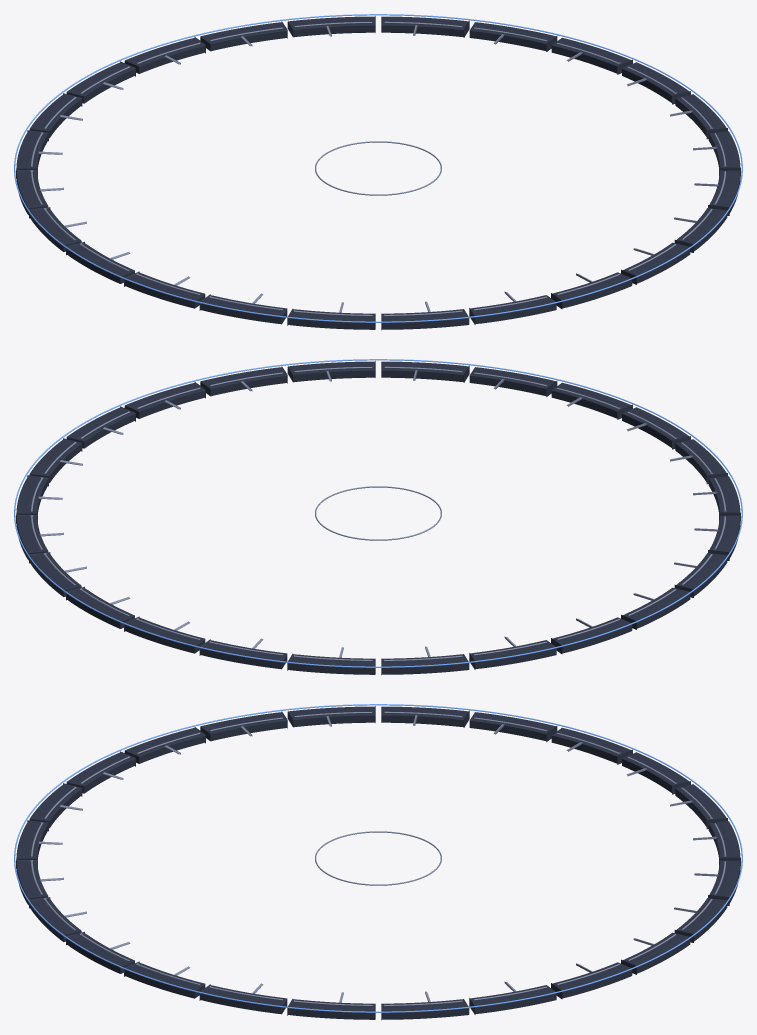
Rendered from iris-stage.glb.
The picture shows the model from 3 angles, top to bottom: view 1: azimuth 30°, elevation 25°; view 2: azimuth 150°, elevation 25°; view 3: azimuth 270°, elevation 25°; orthographic projection.
Visible parts, largest first — view 1: Foundation_Outer, Foundation_Segment_02, Foundation_Segment_01, Foundation_Segment_03, Foundation_Segment_00, Foundation_Segment_14, Foundation_Segment_13, Foundation_Segment_15, Foundation_Segment_12, Foundation_Segment_04, Foundation_Segment_16, Foundation_Segment_11 (+14 smaller); view 2: Foundation_Outer, Foundation_Segment_10, Foundation_Segment_09, Foundation_Segment_11, Foundation_Segment_08, Foundation_Segment_22, Foundation_Segment_21, Foundation_Segment_23, Foundation_Segment_20, Foundation_Segment_12, Foundation_Segment_00, Foundation_Segment_19 (+14 smaller); view 3: Foundation_Outer, Foundation_Segment_18, Foundation_Segment_17, Foundation_Segment_19, Foundation_Segment_16, Foundation_Segment_06, Foundation_Segment_05, Foundation_Segment_07, Foundation_Segment_04, Foundation_Segment_20, Foundation_Segment_08, Foundation_Segment_03 (+14 smaller).
Boxes of the visible parts, x1,y1,x2,y2 form: Foundation_Outer: [14, 14, 742, 322]; Foundation_Segment_02: [381, 16, 469, 37]; Foundation_Segment_01: [287, 16, 375, 37]; Foundation_Segment_03: [469, 22, 557, 51]; Foundation_Segment_00: [200, 21, 287, 51]; Foundation_Segment_14: [287, 308, 375, 329]; Foundation_Segment_13: [381, 309, 469, 330]; Foundation_Segment_15: [199, 294, 287, 324]; Foundation_Segment_12: [469, 295, 556, 324]; Foundation_Segment_04: [551, 37, 632, 74]; Foundation_Segment_16: [124, 271, 205, 308]; Foundation_Segment_11: [551, 272, 632, 309]; Foundation_Outer: [14, 359, 742, 667]; Foundation_Segment_10: [381, 361, 469, 382]; Foundation_Segment_09: [287, 361, 375, 382]; Foundation_Segment_11: [469, 367, 557, 396]; Foundation_Segment_08: [200, 366, 287, 396]; Foundation_Segment_22: [287, 653, 375, 674]; Foundation_Segment_21: [381, 654, 469, 675]; Foundation_Segment_23: [199, 639, 287, 669]; Foundation_Segment_20: [469, 640, 556, 669]; Foundation_Segment_12: [551, 382, 632, 419]; Foundation_Segment_00: [124, 616, 205, 653]; Foundation_Segment_19: [551, 617, 632, 654]; Foundation_Outer: [14, 704, 742, 1012]; Foundation_Segment_18: [381, 706, 469, 727]; Foundation_Segment_17: [287, 706, 375, 727]; Foundation_Segment_19: [469, 712, 557, 741]; Foundation_Segment_16: [200, 711, 287, 741]; Foundation_Segment_06: [287, 998, 375, 1019]; Foundation_Segment_05: [381, 999, 469, 1020]; Foundation_Segment_07: [199, 984, 287, 1014]; Foundation_Segment_04: [469, 985, 556, 1014]; Foundation_Segment_20: [551, 727, 632, 764]; Foundation_Segment_08: [124, 961, 205, 998]; Foundation_Segment_03: [551, 962, 632, 999].
Bounding box in the file's own units: 8.34 × 0.123 × 8.34.
